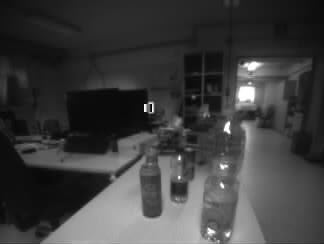Bottle: (204, 114, 238, 239), (171, 147, 188, 200)
Tin can: (140, 163, 160, 218), (145, 148, 156, 165)
